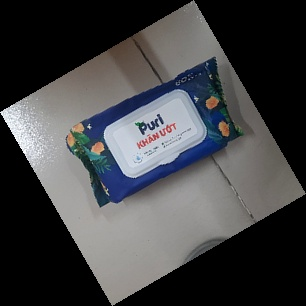Puri Xanh: (63, 56, 250, 210)
